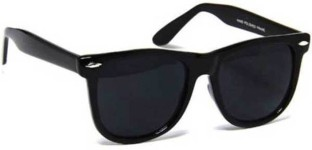sunglasses: (2, 5, 312, 147)
